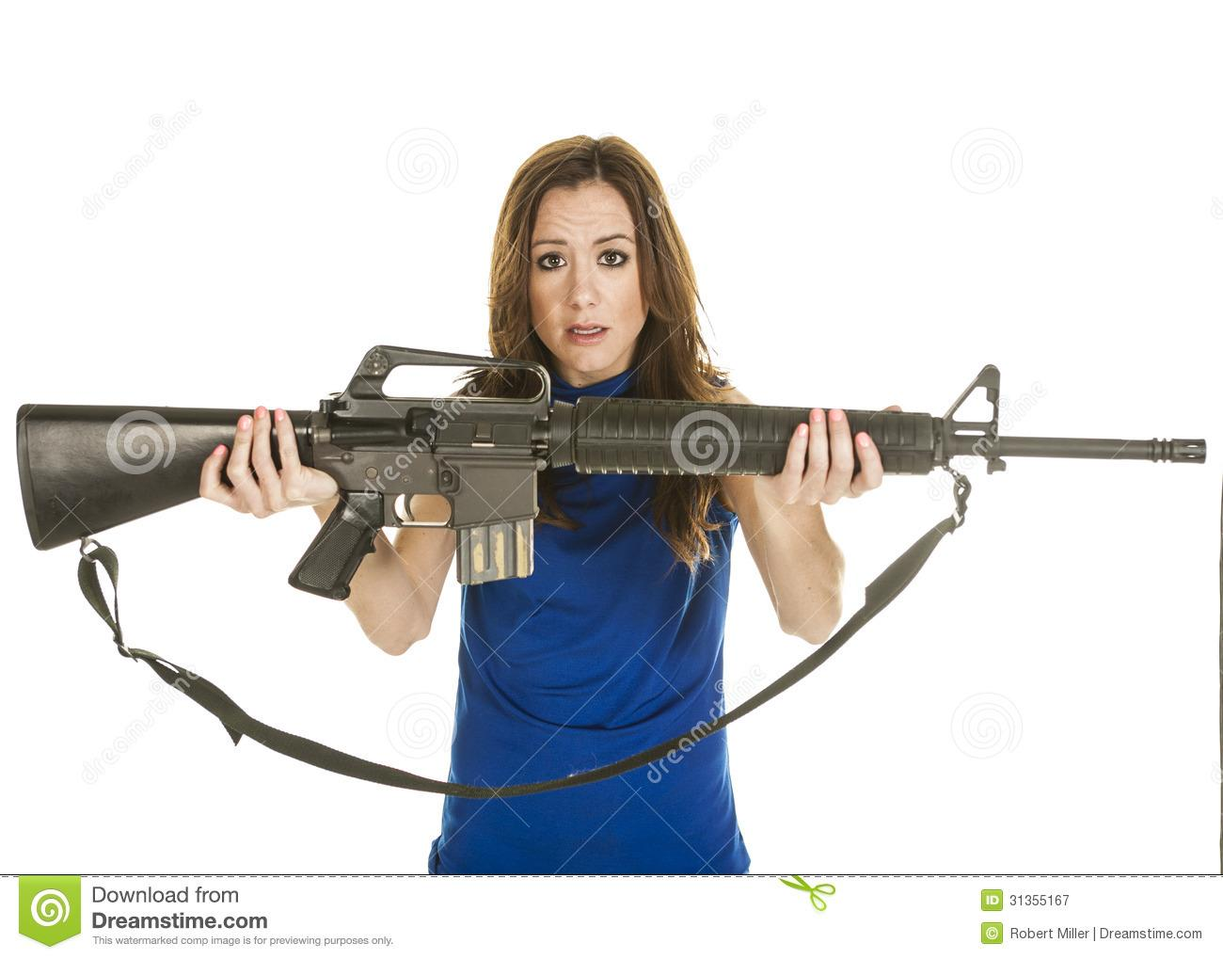rifle: (13, 336, 1223, 640)
